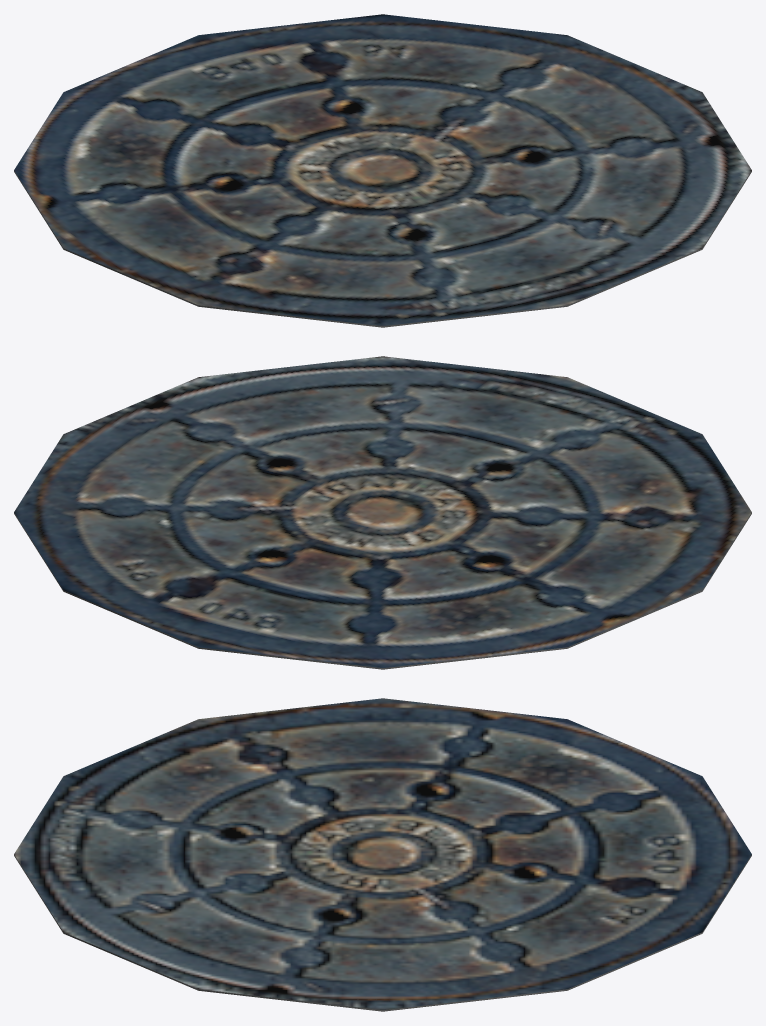
Rendered from road prop3.FBX.
3 views of the same model, one above another, from view 1: azimuth 30°, elevation 25°; view 2: azimuth 150°, elevation 25°; view 3: azimuth 270°, elevation 25° (orthographic).
Parts seen in each view (by area): view 1: Cylinder001; view 2: Cylinder001; view 3: Cylinder001.
Boxes of the visible parts, x1=… form: Cylinder001: x1=14, y1=14, x2=751, y2=327; Cylinder001: x1=14, y1=356, x2=751, y2=669; Cylinder001: x1=14, y1=698, x2=751, y2=1011.
Size of the model in its own units: 17.49 by 0.04 by 17.49.
